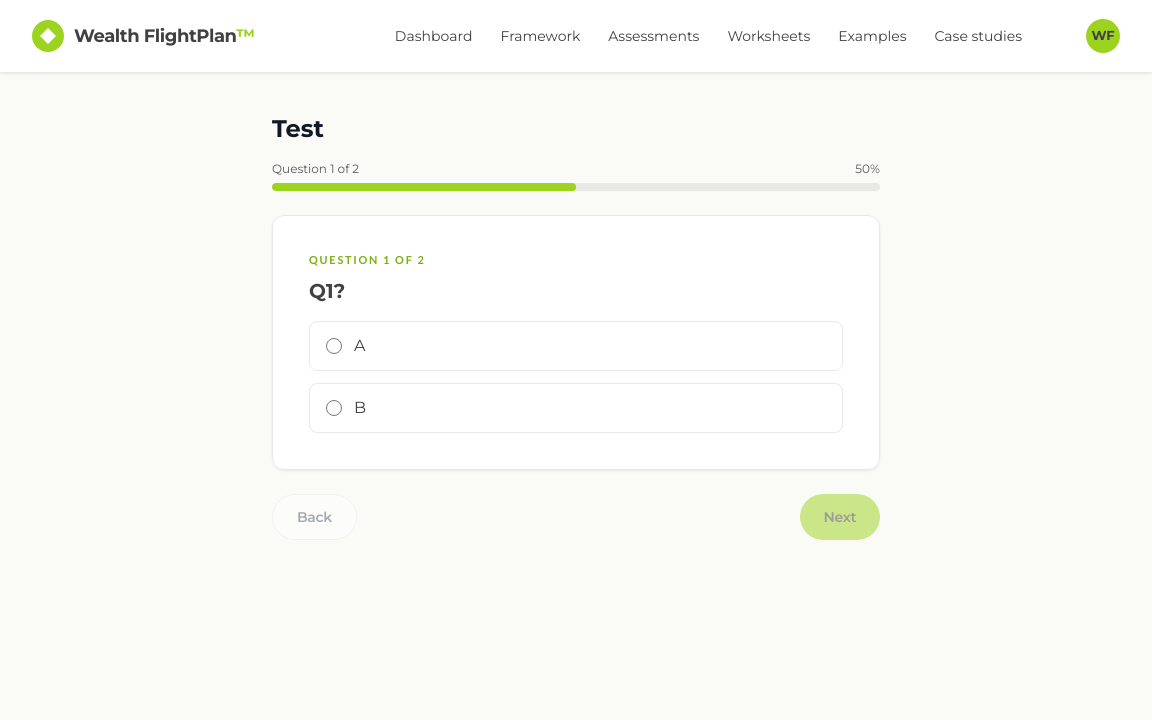
Test case: AssessmentFlow › disables Next until the current question is answered
Expected: the button "Next" is disabled, [800,494,880,540]
Click the radio button labelled "A". click: (334, 346)
box: [326,338,342,354]
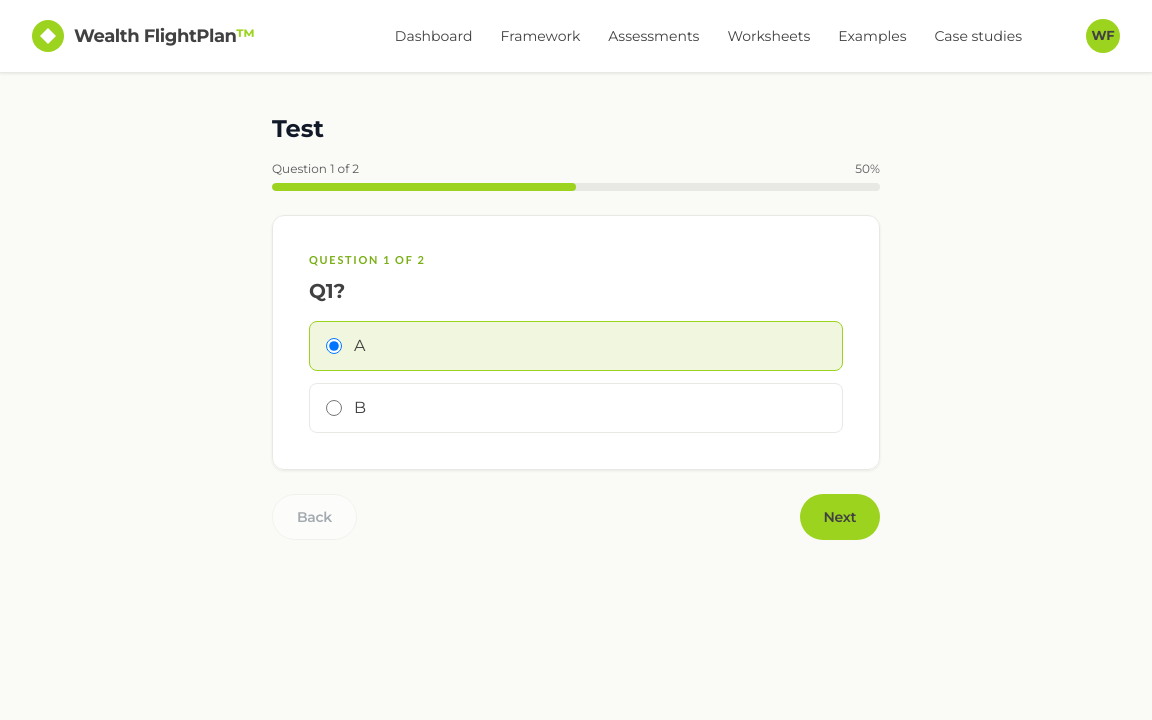
Expected: the button "Next" is enabled, [800,494,880,540]
